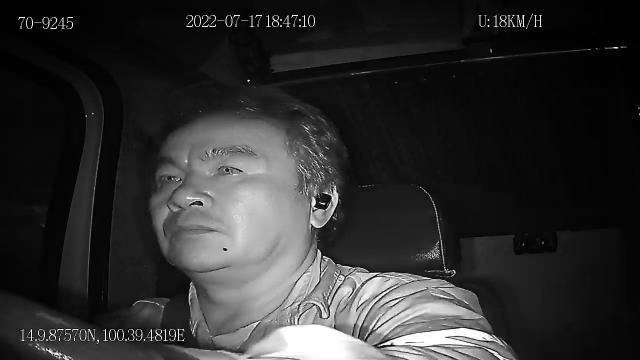SafeDriving: (209, 154, 253, 182), (151, 164, 188, 190)
Seatbelt: (159, 296, 203, 350)
